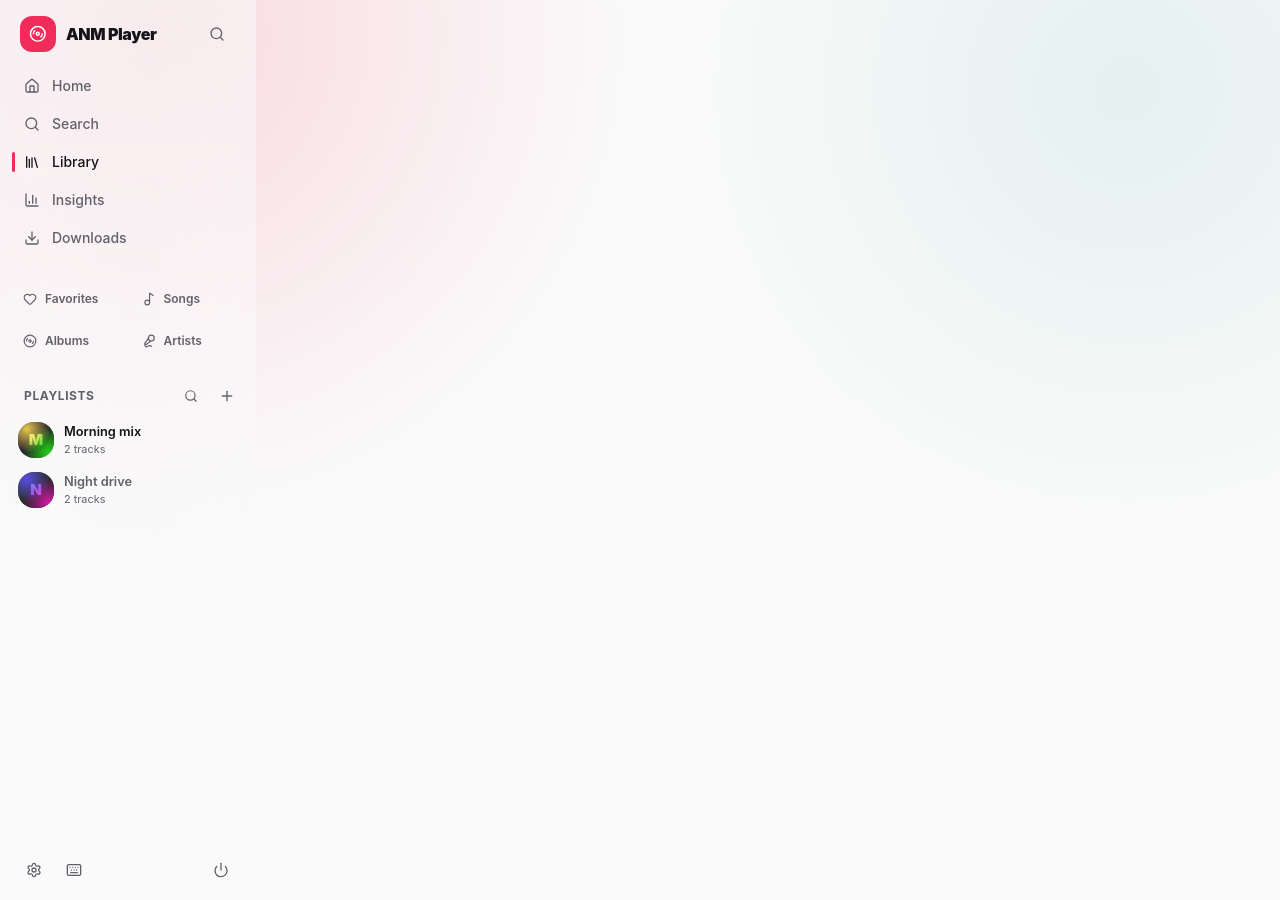
Test case: library navigation › exposes labelled navigation and a keyboard accessible create dialog
This screenshot has width=1280, height=900.
Click the button named "Create playlist" at (227, 396), box [211,380,243,412]
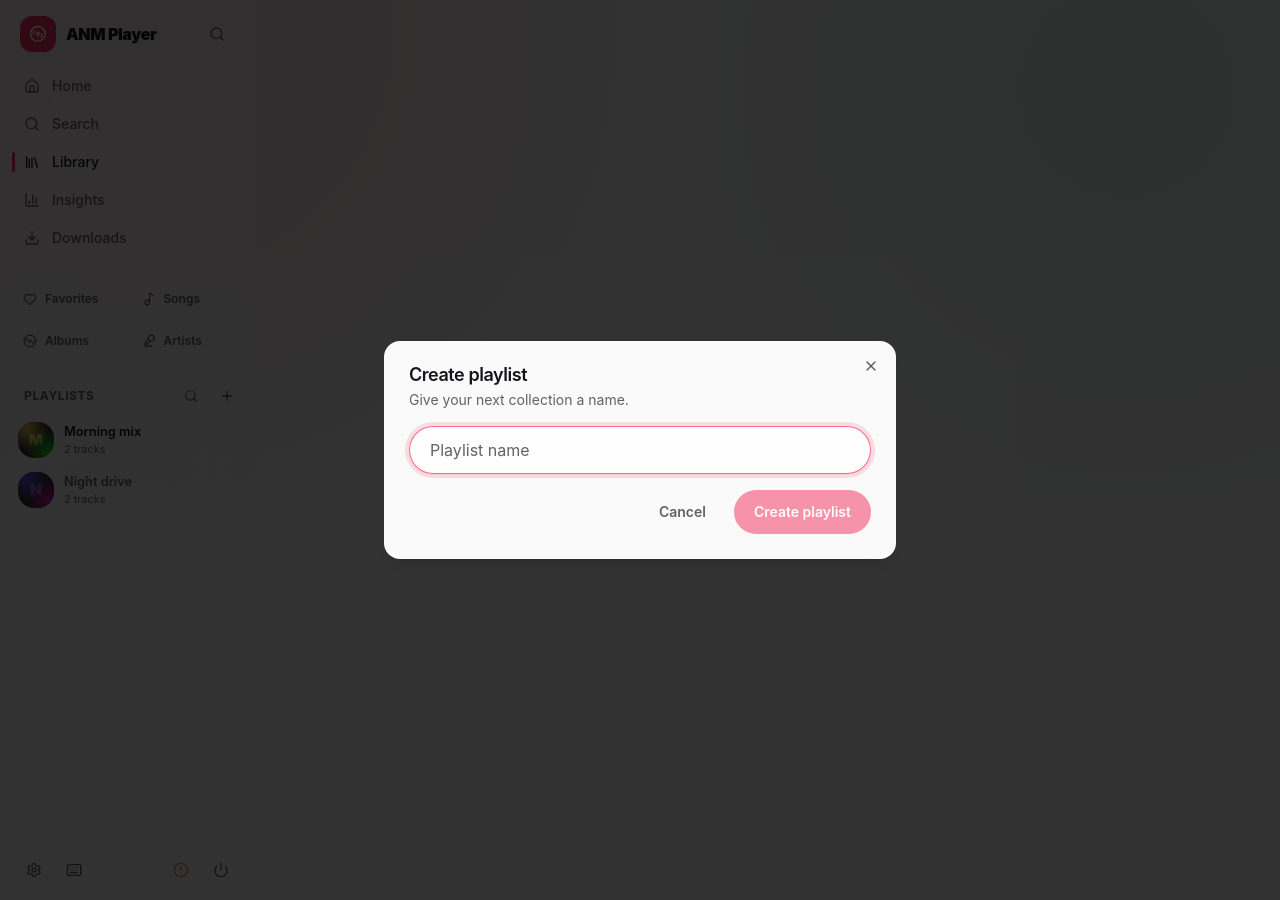
Check: the dialog "Create playlist" is shown, box [384,341,896,559]
Check: the button "Create playlist" is disabled, box [734,490,871,534]
